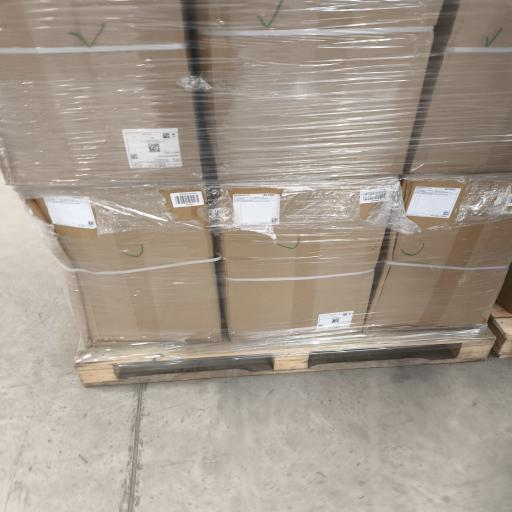pallet: (76, 328, 494, 386), (489, 303, 511, 357)
